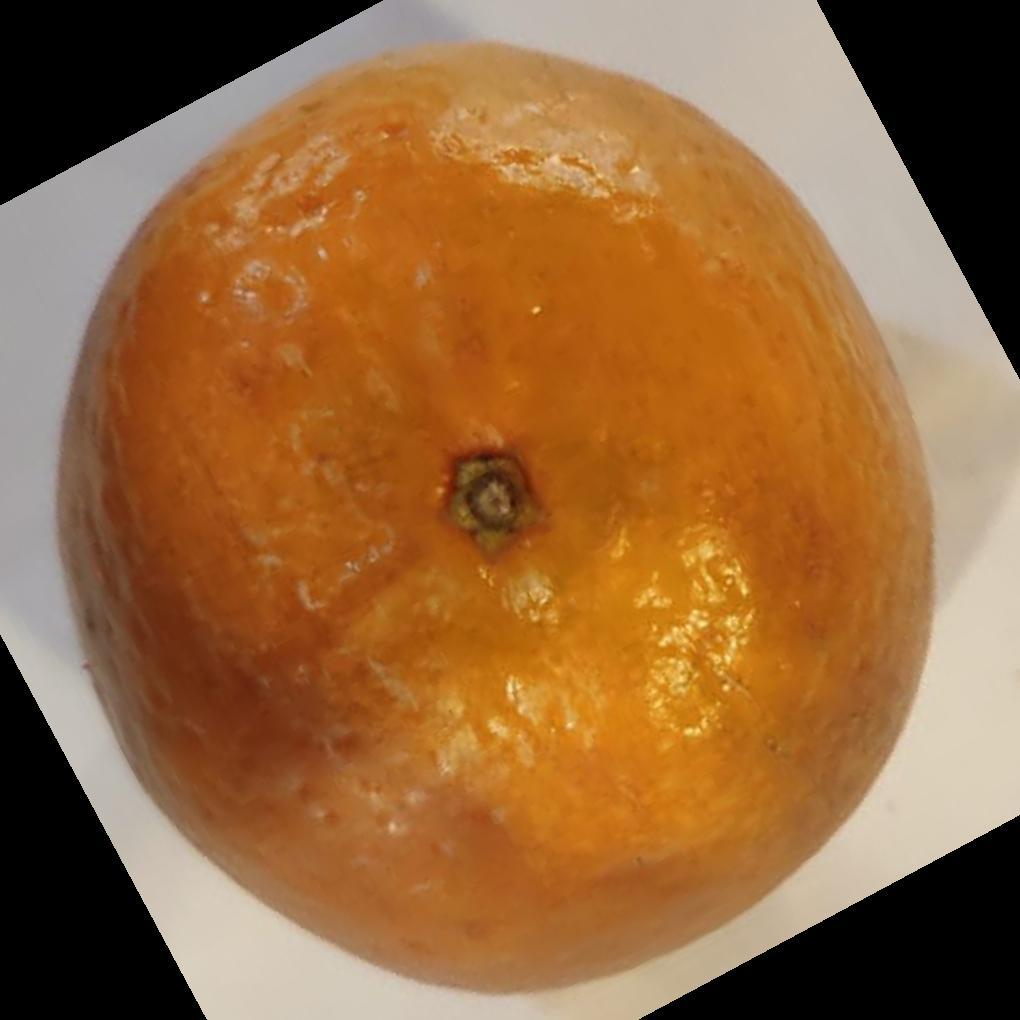FreshOrange: (50, 41, 938, 998)
